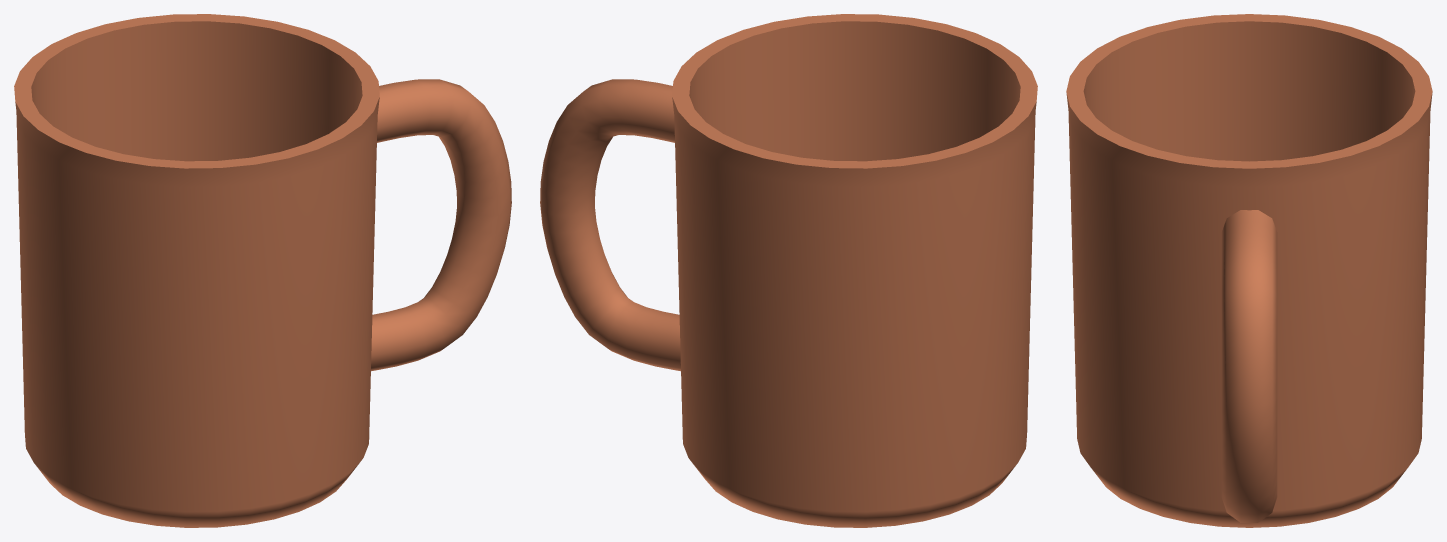
The model's file is vuena-ap-mug.glb.
3 renders of one model, left to right at view 1: azimuth 30°, elevation 25°; view 2: azimuth 150°, elevation 25°; view 3: azimuth 270°, elevation 25°, orthographic.
Parts seen in each view (by area): view 1: ap_mug; view 2: ap_mug; view 3: ap_mug.
Boxes of the visible parts, x1,y1,x2,y2 form: ap_mug: [14, 14, 511, 527]; ap_mug: [540, 14, 1037, 527]; ap_mug: [1066, 14, 1432, 527].
Size of the model in its own units: 0.1257 by 0.095 by 0.085.
